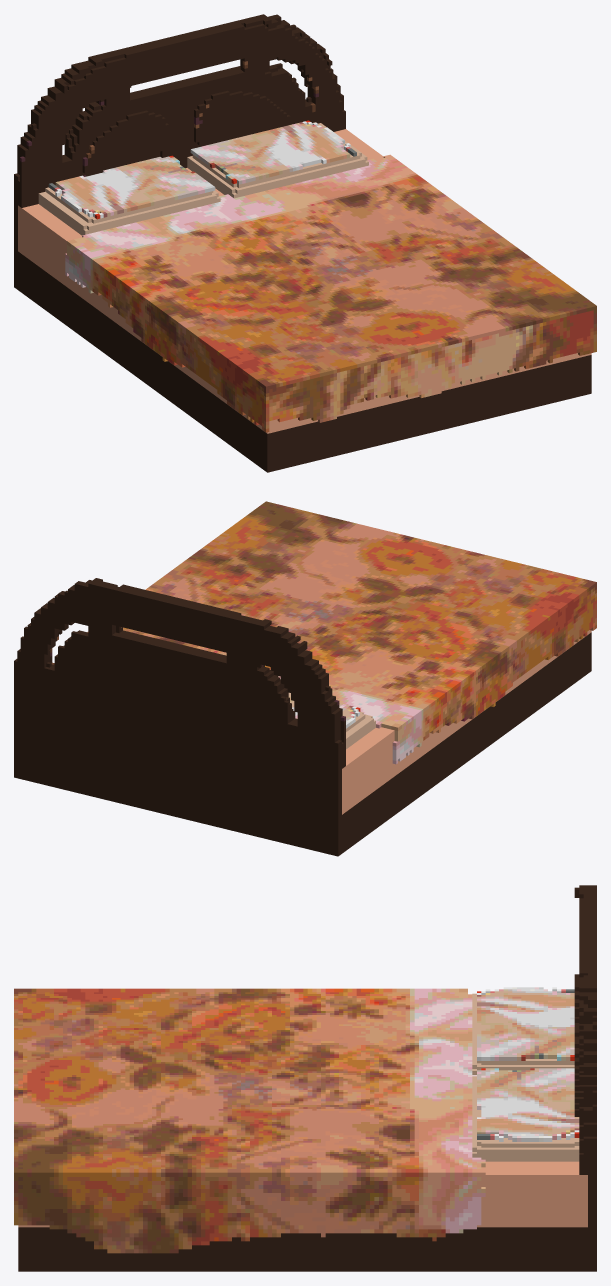
File: beda.vox.obj
3 views of the same model, one above another, from view 1: azimuth 30°, elevation 25°; view 2: azimuth 150°, elevation 25°; view 3: azimuth 270°, elevation 25° (orthographic). The views are drawn at different scales.
Bounding box in the file's own units: 9.8 × 6 × 13.1.
1 material, 1 textured.
